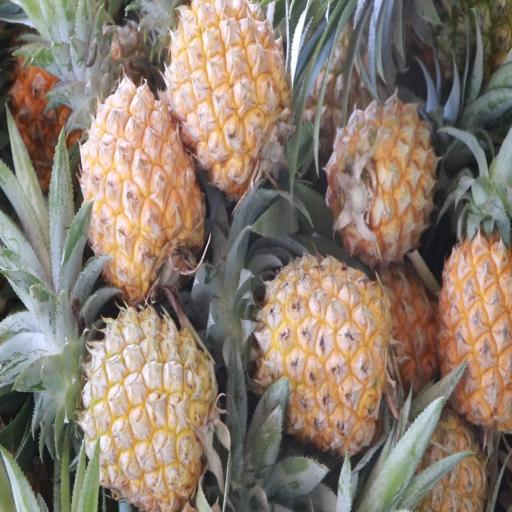Pineapple - v8 v1: (84, 308, 216, 510), (79, 79, 204, 291), (260, 250, 390, 446), (163, 0, 290, 180), (328, 97, 434, 261), (439, 228, 512, 418)
